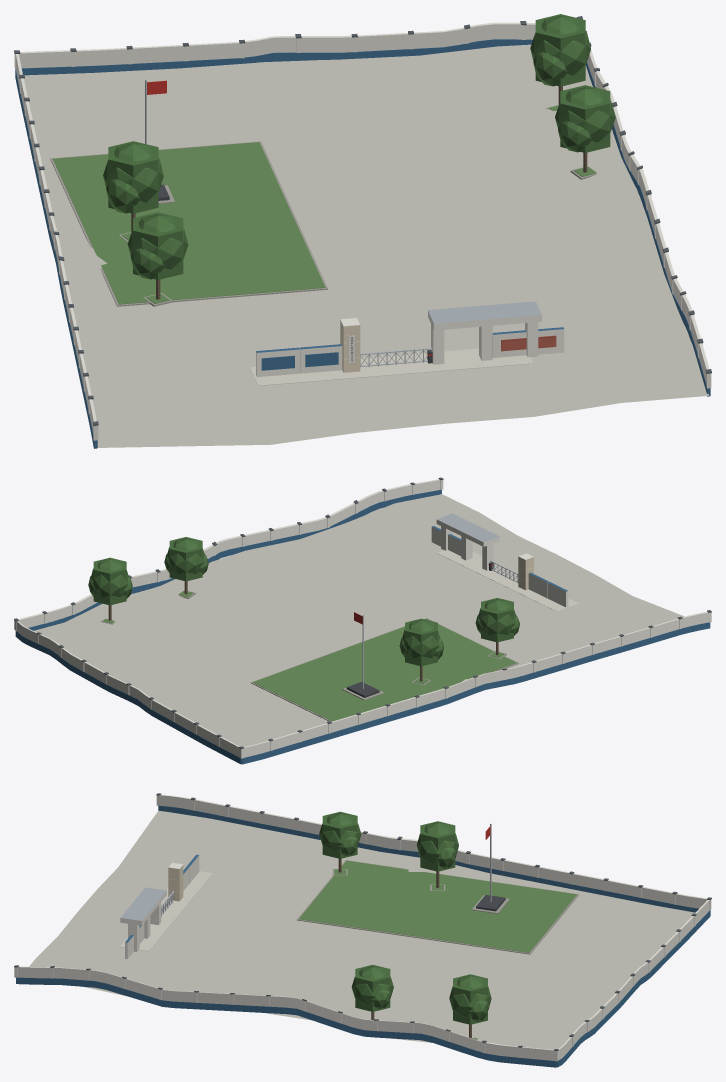
The model's file is lijiang_primary.glb.
3 views of the same model, one above another, from view 1: azimuth 30°, elevation 25°; view 2: azimuth 150°, elevation 25°; view 3: azimuth 270°, elevation 25° (orthographic). The views are drawn at different scales.
Parts seen in each view (by area): view 1: lod0_atlas, lod1_atlas; view 2: lod0_atlas, lod1_atlas; view 3: lod0_atlas, lod1_atlas.
Boxes of the visible parts, <box> form: lod0_atlas: <box>14,15,711,448</box>; lod1_atlas: <box>15,14,709,432</box>; lod0_atlas: <box>14,477,711,764</box>; lod1_atlas: <box>16,479,708,757</box>; lod0_atlas: <box>14,793,711,1067</box>; lod1_atlas: <box>17,794,709,1060</box>.
Size of what is drawn, in the model's own units: 76.62 by 12.64 by 85.76.
Materials: 1 (1 with a texture image).
